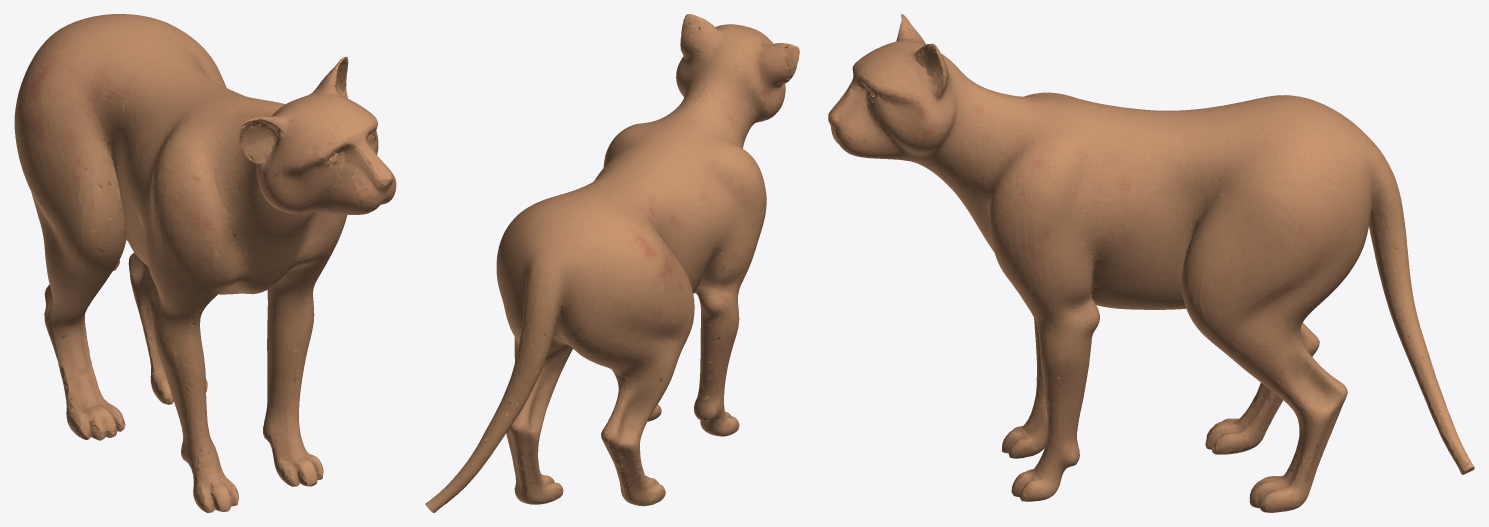
3 views of the same model, side by side, from view 1: azimuth 30°, elevation 25°; view 2: azimuth 150°, elevation 25°; view 3: azimuth 270°, elevation 25° (orthographic). The views are drawn at different scales.
Parts seen in each view (by area): view 1: world; view 2: world; view 3: world.
Boxes of the visible parts, x1,y1,x2,y2 form: world: (14, 14, 396, 512); world: (425, 14, 799, 512); world: (828, 14, 1474, 512).
Bounding box in the file's own units: 0.3445 × 0.7763 × 0.9995.
1 material, 1 textured.
